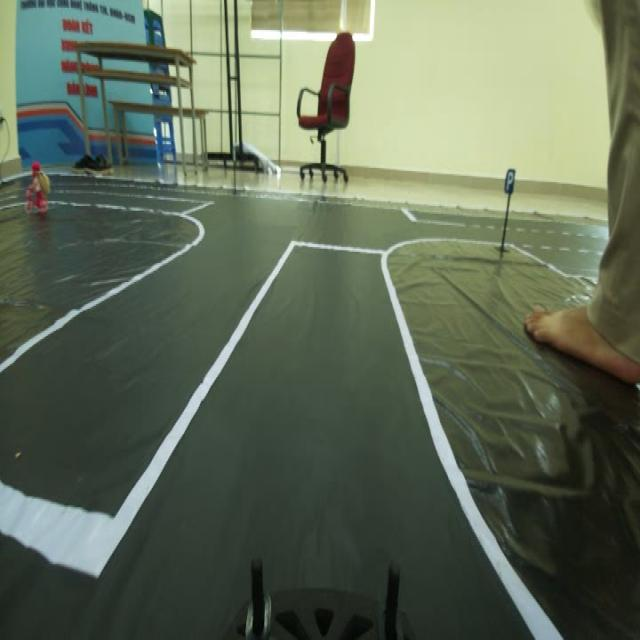parking: (498, 157, 517, 196)
